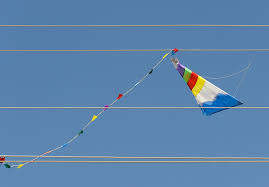kite: (167, 51, 245, 115)
